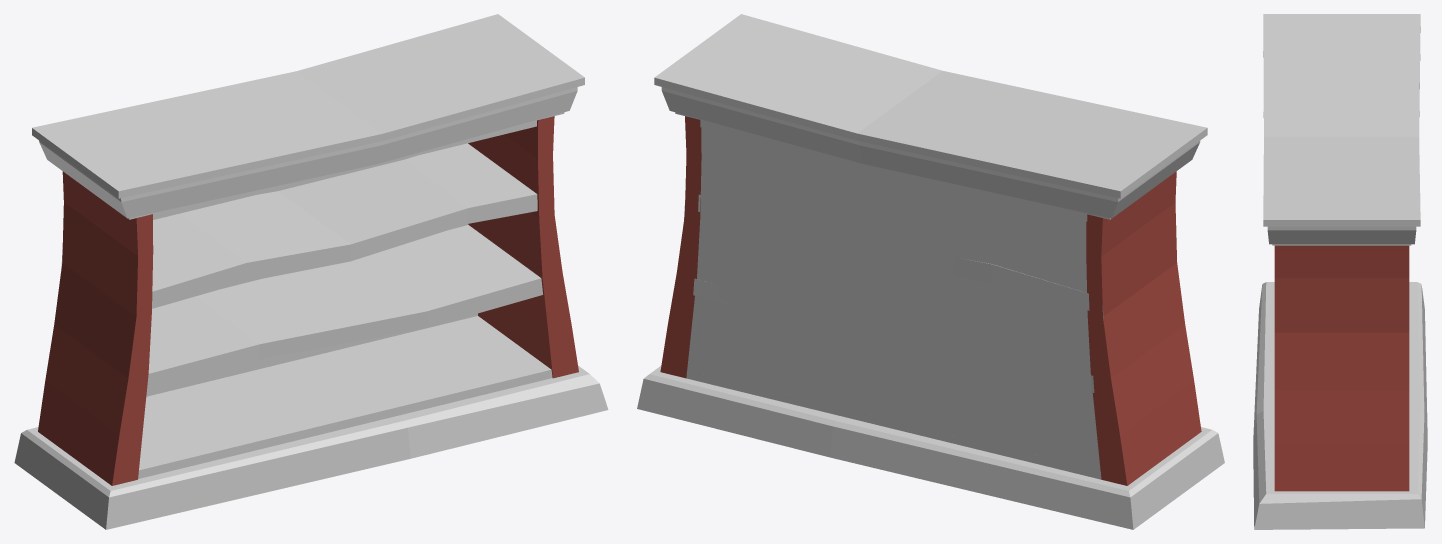
The model's file is SmallBookcase.fbx.
3 renders of one model, left to right at view 1: azimuth 30°, elevation 25°; view 2: azimuth 150°, elevation 25°; view 3: azimuth 270°, elevation 25°, orthographic. The views are drawn at different scales.
Parts seen in each view (by area): view 1: Shelves, Top, Sides, Bottom, Back; view 2: Back, Top, Sides, Bottom, Shelves; view 3: Top, Sides, Bottom, MidBit.
Part boxes in pixels (left/top/right/bottom): Shelves: left=138, top=120, right=552, bottom=478; Top: left=32, top=14, right=584, bottom=218; Sides: left=38, top=116, right=578, bottom=485; Bottom: left=14, top=365, right=608, bottom=529; Back: left=61, top=156, right=477, bottom=396; Back: left=684, top=127, right=1103, bottom=470; Top: left=654, top=14, right=1207, bottom=218; Sides: left=660, top=116, right=1201, bottom=485; Bottom: left=637, top=366, right=1224, bottom=529; Shelves: left=686, top=120, right=1101, bottom=479; Top: left=1263, top=14, right=1420, bottom=244; Sides: left=1274, top=245, right=1409, bottom=491; Bottom: left=1253, top=282, right=1427, bottom=529; MidBit: left=1272, top=244, right=1411, bottom=245.
Bounding box in the file's own units: 154 × 98.11 × 51.46.
